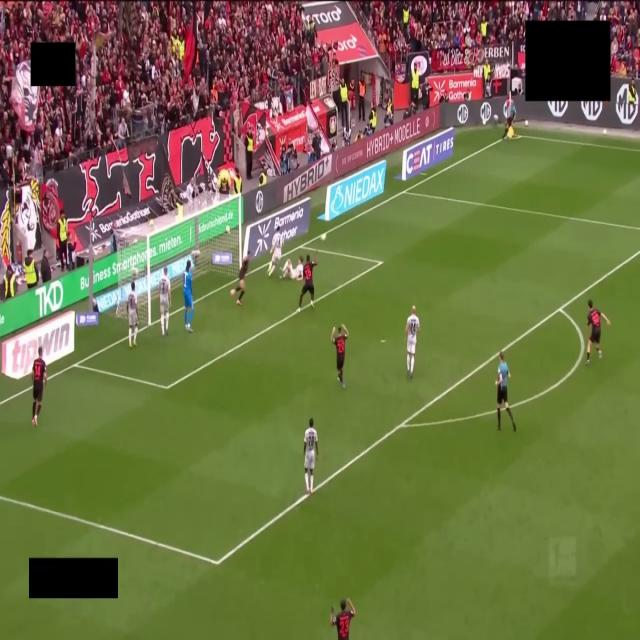ball: (321, 234, 326, 240)
player: (586, 300, 610, 365), (303, 418, 319, 493), (31, 347, 46, 426), (297, 255, 317, 312), (331, 325, 348, 388), (231, 252, 251, 305), (406, 306, 420, 378), (330, 599, 355, 639), (268, 226, 283, 276), (159, 267, 170, 335), (127, 282, 138, 348), (183, 260, 193, 332), (281, 256, 303, 280)
referee: (496, 352, 515, 431)
